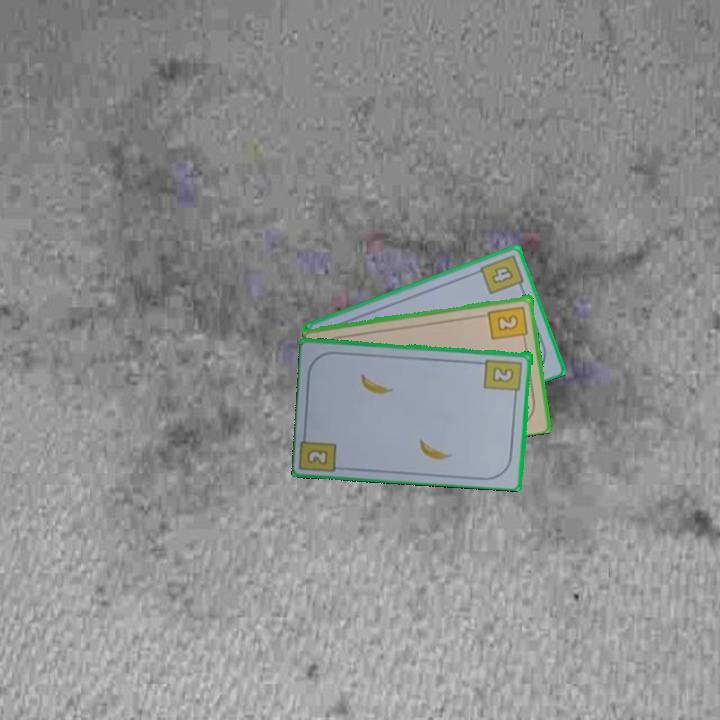2b: (481, 355, 525, 399), (485, 302, 531, 344), (306, 447, 329, 465)
4b: (477, 251, 527, 297)
